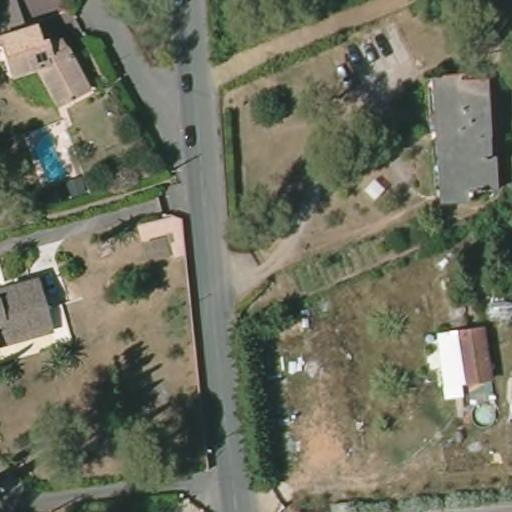pool: (28, 128, 74, 185)
